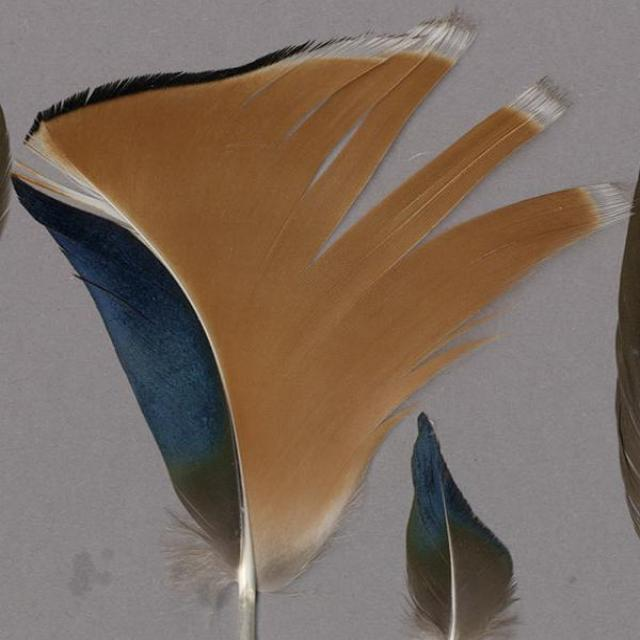feather: (11, 13, 637, 640), (405, 410, 521, 640), (611, 172, 640, 524)
